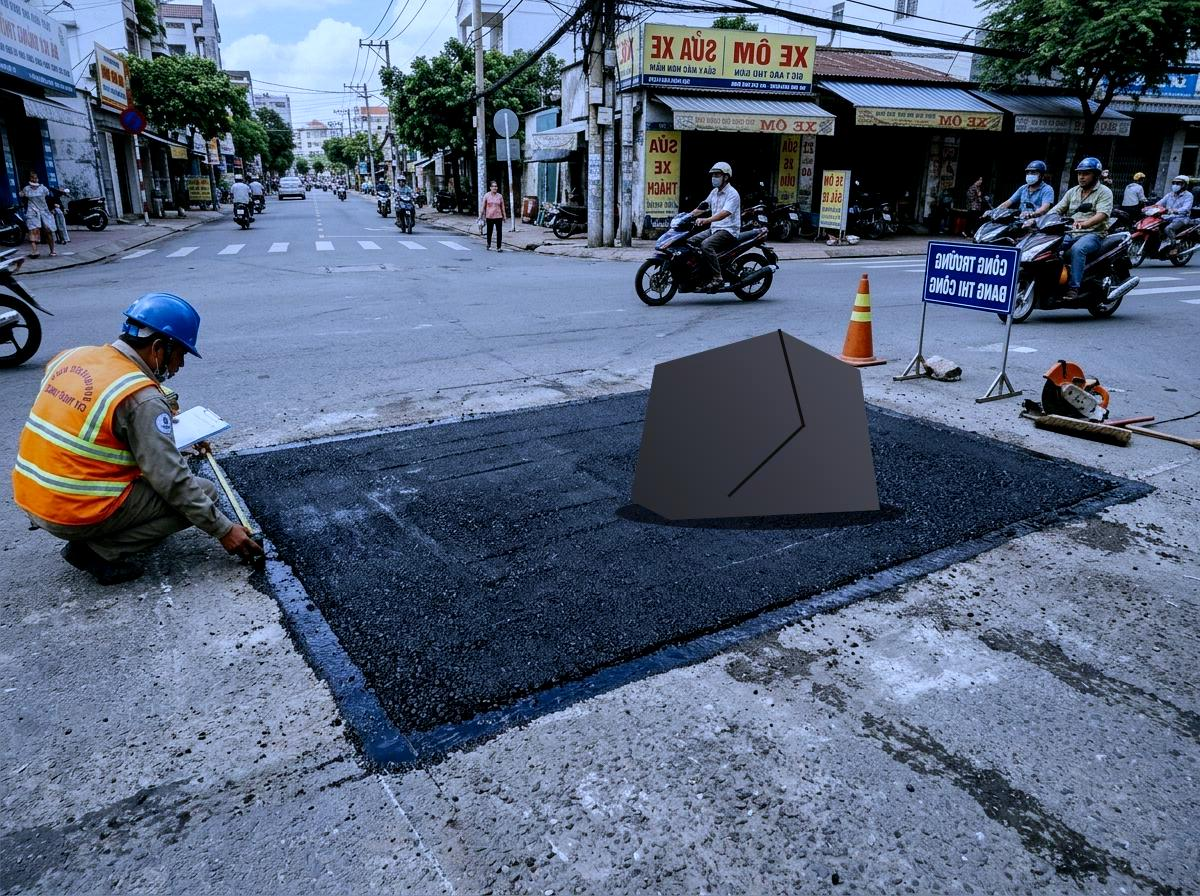ROAD_OBSTACLE: (620, 320, 900, 530)
